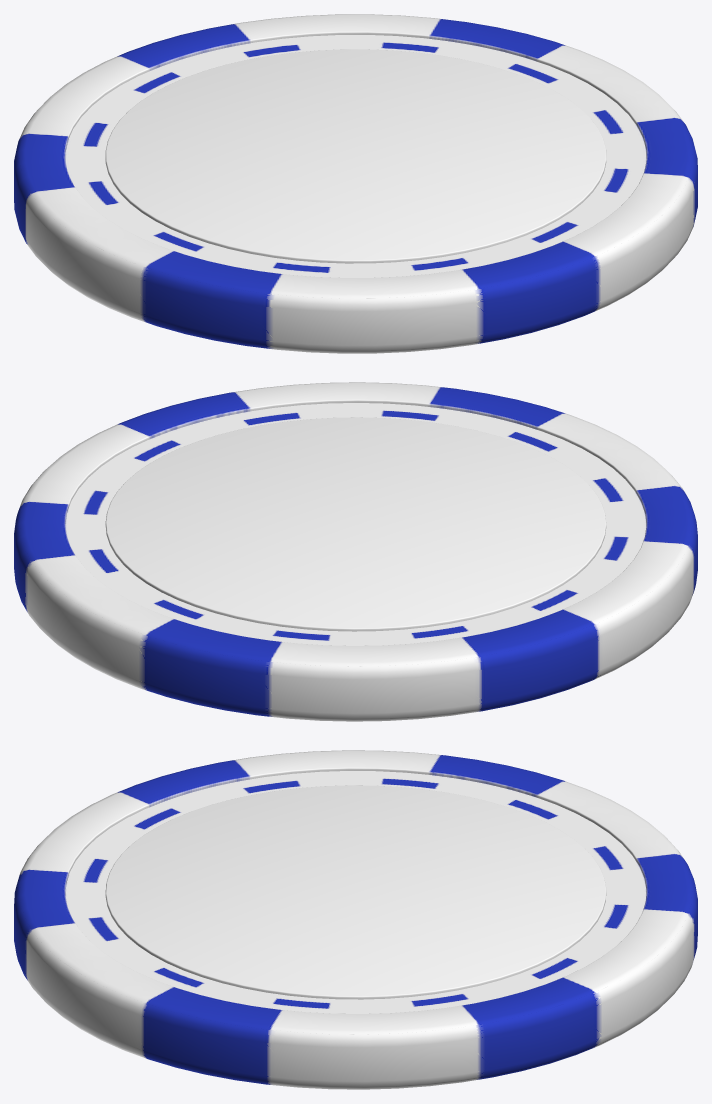
File: WhiteChips.glb
The picture shows the model from 3 angles, top to bottom: view 1: azimuth 30°, elevation 25°; view 2: azimuth 150°, elevation 25°; view 3: azimuth 270°, elevation 25°; orthographic projection.
Visible parts, largest first — view 1: chips.496_chips_white_bake_0; view 2: chips.496_chips_white_bake_0; view 3: chips.496_chips_white_bake_0.
Boxes of the visible parts, x1,y1,x2,y2 form: chips.496_chips_white_bake_0: [14, 14, 697, 353]; chips.496_chips_white_bake_0: [14, 382, 697, 721]; chips.496_chips_white_bake_0: [14, 750, 697, 1089].
Size of the model in its own units: 2 by 0.1882 by 2.
Materials: 1 (1 with a texture image).
